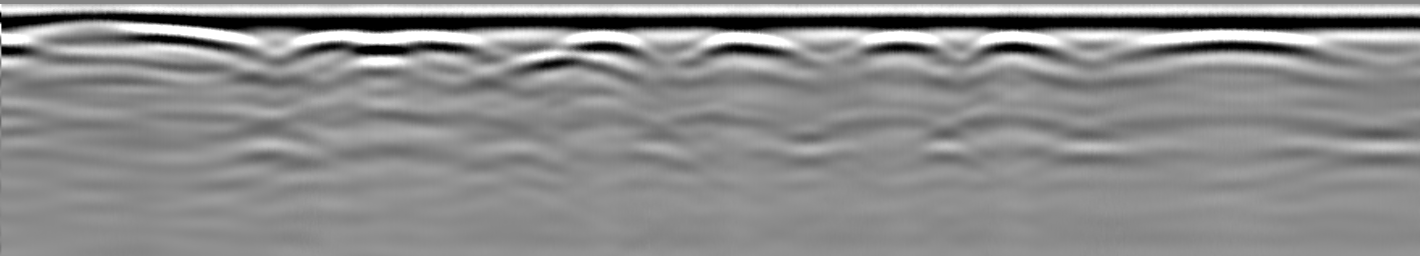pipe: (10, 13, 258, 55)
steel: (1100, 29, 1367, 68), (282, 28, 492, 64), (518, 29, 662, 74), (687, 29, 820, 68), (967, 30, 1088, 70), (836, 27, 960, 66)
